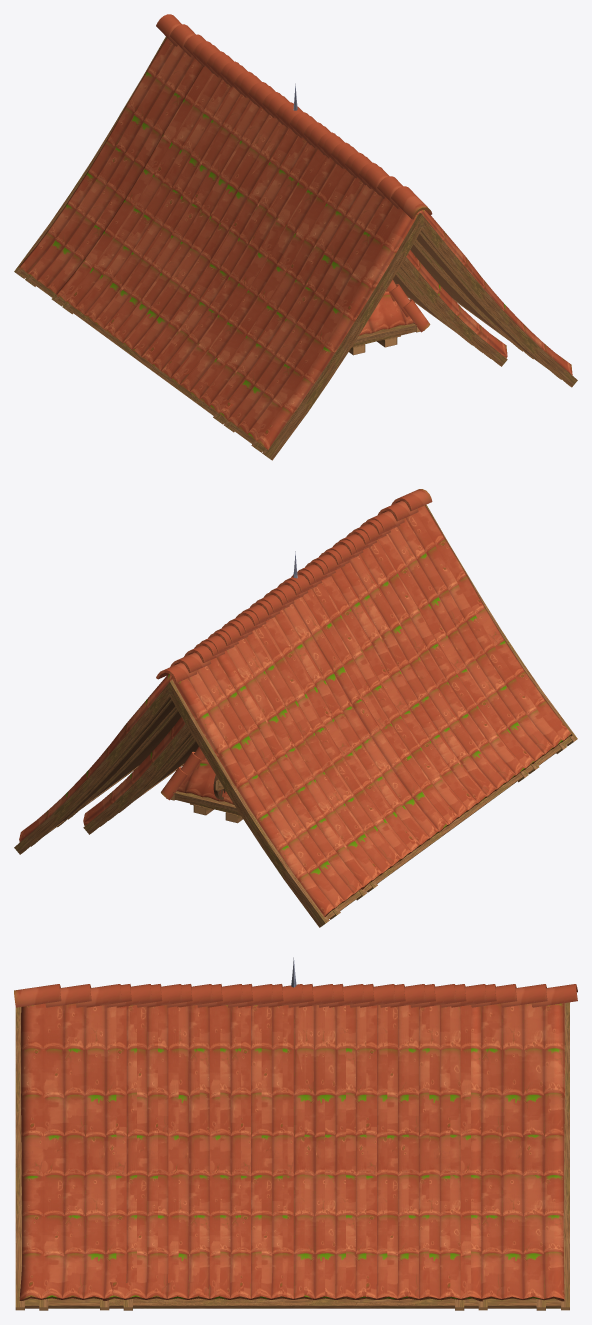
File: village_kit.glb
3 renders of one model, top to bottom at view 1: azimuth 30°, elevation 25°; view 2: azimuth 150°, elevation 25°; view 3: azimuth 270°, elevation 25°, orthographic. The views are drawn at different scales.
Visible parts, largest first — view 1: Roof_RoundTiles_8x12, Roof_RoundTiles_8x8, Roof_RoundTiles_6x8, Roof_Tower_RoundTiles, Roof_RoundTiles_6x6; view 2: Roof_RoundTiles_8x12, Roof_RoundTiles_8x8, Roof_RoundTiles_6x8, Roof_Tower_RoundTiles, Roof_RoundTiles_6x6; view 3: Roof_RoundTiles_8x12, Roof_RoundTiles_8x8.
Part boxes in pixels (x1,y1,x2,y2): Roof_RoundTiles_8x12: (14, 14, 577, 460); Roof_RoundTiles_8x8: (51, 41, 533, 432); Roof_RoundTiles_6x8: (399, 250, 507, 366); Roof_Tower_RoundTiles: (293, 83, 430, 355); Roof_RoundTiles_6x6: (393, 269, 482, 352); Roof_RoundTiles_8x12: (14, 489, 577, 927); Roof_RoundTiles_8x8: (57, 519, 539, 900); Roof_RoundTiles_6x8: (83, 717, 192, 834); Roof_Tower_RoundTiles: (161, 551, 297, 823); Roof_RoundTiles_6x6: (108, 737, 198, 820); Roof_RoundTiles_8x12: (14, 984, 577, 1310); Roof_RoundTiles_8x8: (86, 984, 496, 1310).
Bounding box in the file's own units: 9.95 × 8.91 × 14.13.
9 materials, 8 textured.
